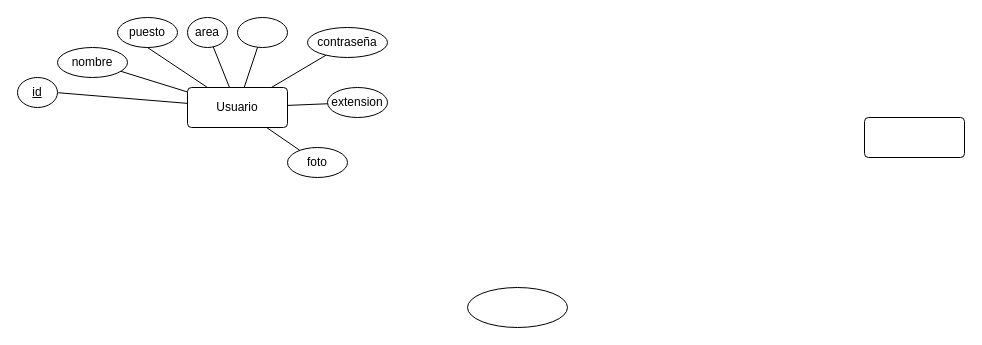
Some shapes in this 982 by 345 pixel diagram are drawn without their labels. Here are the shapes that lost their labels. From the top down, the centre of each, then its label:
At pixel 262 32: "correo".
At pixel 914 137: "Ticket".
At pixel 517 307: "rol".
